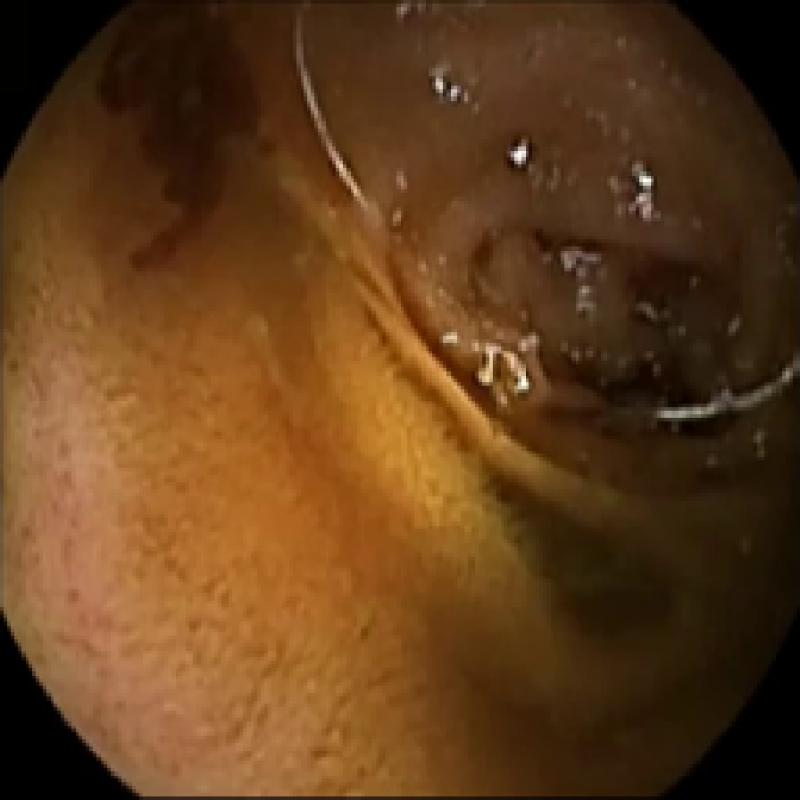bleeding: (96, 0, 254, 268), (562, 254, 733, 440)
